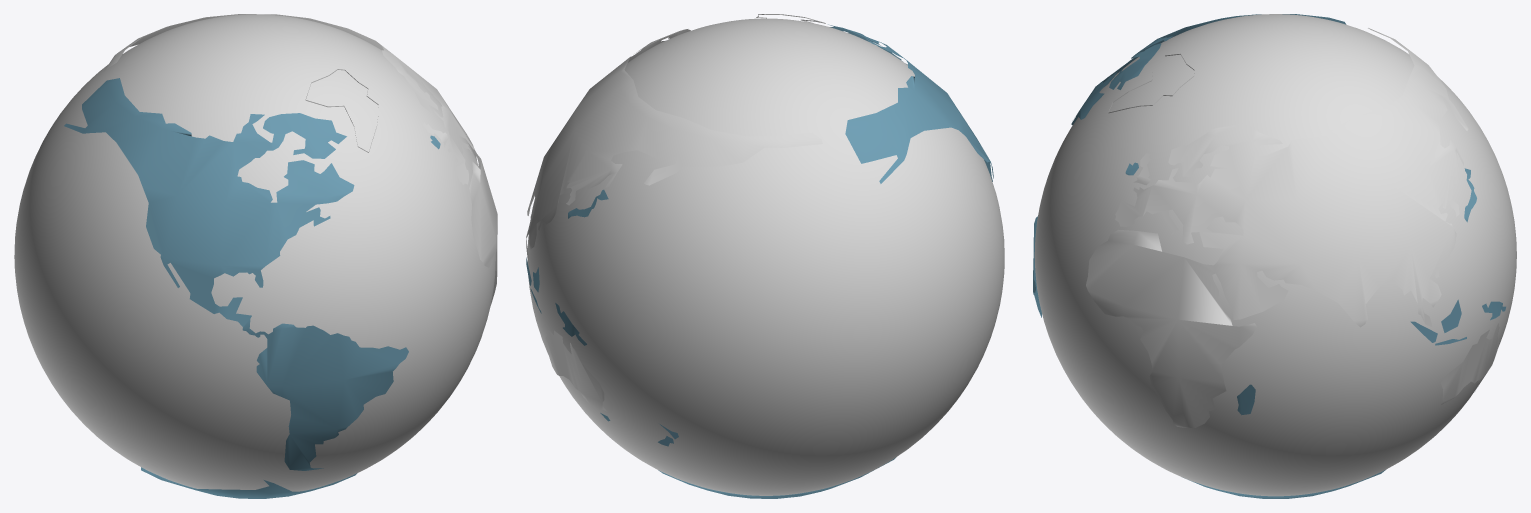
File: globe_solidify.dae
The picture shows the model from 3 angles, left to right: view 1: azimuth 30°, elevation 25°; view 2: azimuth 150°, elevation 25°; view 3: azimuth 270°, elevation 25°; orthographic projection.
Visible parts, largest first — view 1: globe, group_0_034, group_0_019, group_0_026; view 2: globe, group_0_019, group_0_034, group_0_017, group_0_026; view 3: globe, group_0_019, group_0_034, group_0_017.
Part boxes in pixels (x1,y1,x2,y2): globe: [14, 14, 495, 491]; group_0_034: [64, 78, 408, 470]; group_0_019: [104, 14, 497, 305]; group_0_026: [141, 467, 357, 498]; globe: [527, 18, 1004, 495]; group_0_019: [526, 29, 822, 268]; group_0_034: [828, 24, 993, 183]; group_0_017: [543, 330, 606, 411]; group_0_026: [658, 457, 896, 498]; globe: [1034, 14, 1516, 496]; group_0_019: [1086, 28, 1468, 427]; group_0_034: [1033, 14, 1346, 317]; group_0_017: [1440, 323, 1499, 404].
Size of the model in its own units: 41.89 by 42 by 41.95.
